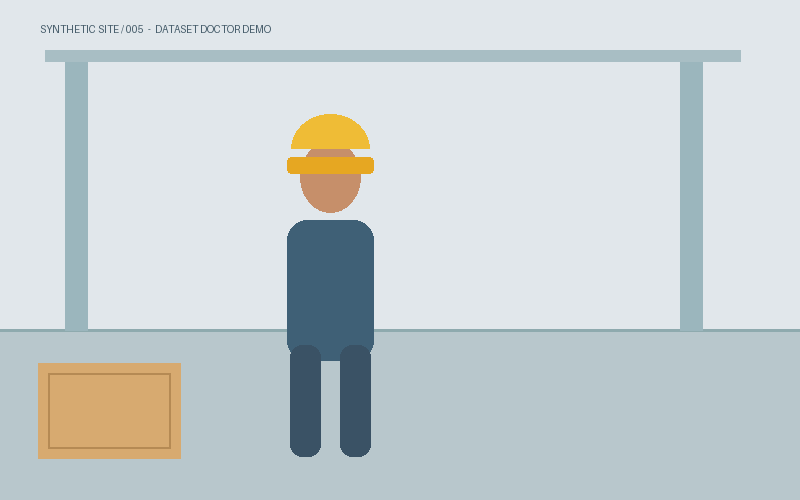Safety-Helmet: (287, 127, 373, 173)
